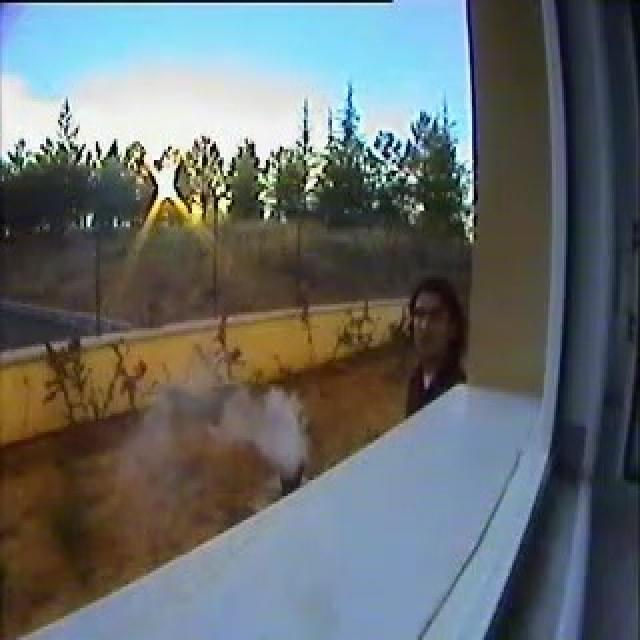smoke: (219, 387, 303, 467)
